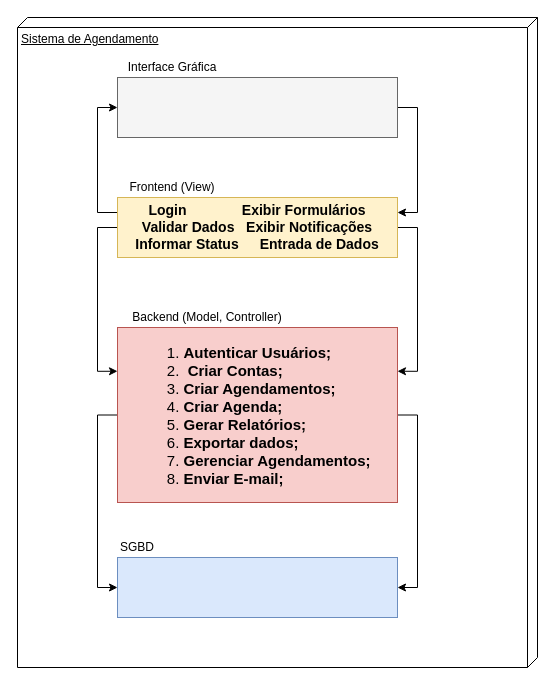
Image size: 555x685. Some labels were removed from this diagram. Here are the shapes that lost their labels. From the top down, the centre of each, then its label:
At point 257,107: "Interface Web".
At point 257,587: "Gerenciamento de Transações ; Banco de Dados da plataforma;".
